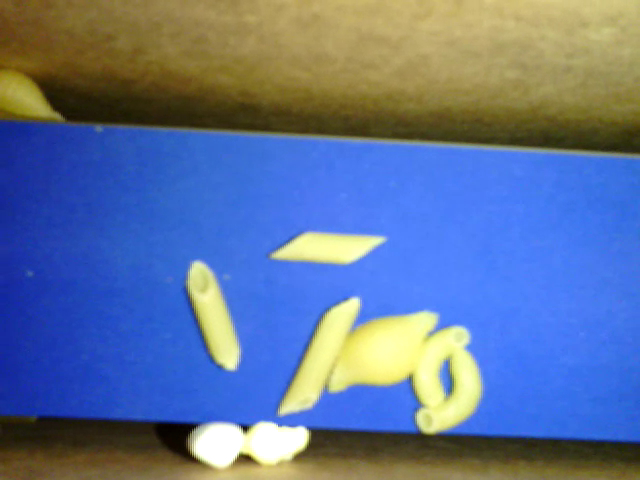elbow: (412, 344, 481, 437), (411, 322, 471, 408)
penne: (278, 295, 356, 413), (188, 259, 240, 373), (267, 231, 393, 267)
shell: (326, 309, 439, 396), (4, 67, 76, 123)
